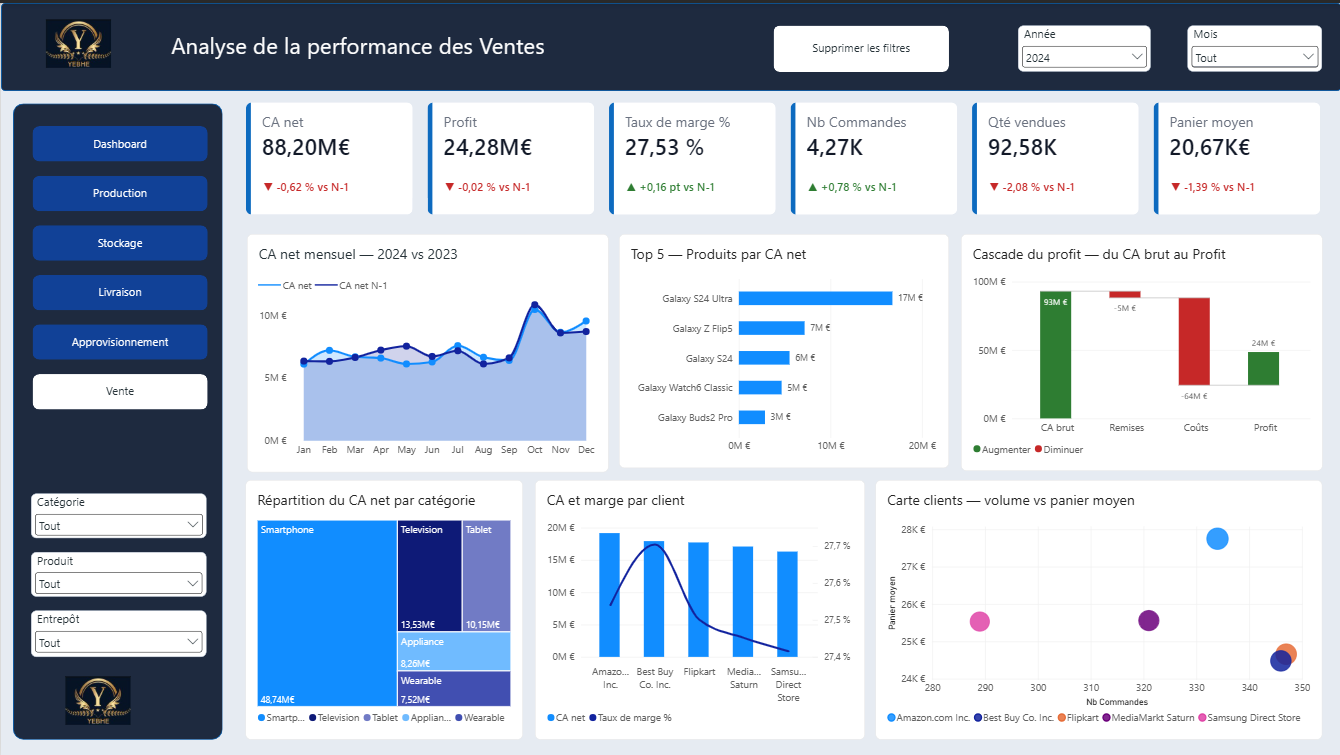

This screenshot's page, from the dashboard's own definition file:
{"tool":"powerbi","page":{"name":"Vente","canvas":[1920,1080],"ordinal":5},"visuals":[{"type":"shape","box":[18,143.7,300.3,911.2],"z":0},{"type":"clusteredBarChart","title":"Top 5 — Produits par CA net","fields":{"Category":["dim_product.product_name"],"Y":["_Mesures.CA net"]},"box":[885.2,330.9,472.9,335.6],"z":1000},{"type":"cardVisual","fields":{"Data":["_Mesures.CA net","_Mesures.Profit","_Mesures.Taux de marge %","_Mesures.Nb Commandes","_Mesures.Qté vendues","_Mesures.Panier moyen"]},"box":[349.7,142.7,1544.2,162.3],"z":2000},{"type":"waterfallChart","title":"Cascade du profit — du CA brut au Profit","fields":{"Category":["Etape cascade.Etape"],"Y":["_Mesures.Valeur cascade"]},"box":[1375.1,330.9,517.8,339.5],"z":3000},{"type":"shape","box":[0,0,1920,126],"z":4000},{"type":"treemap","title":"Répartition du CA net par catégorie","fields":{"Group":["dim_product.category"],"Values":["_Mesures.CA net"]},"box":[350.2,683.3,397.5,371.7],"z":5000},{"type":"slicer","fields":{"Values":["dim_date.year Hierarchy.month_name"]},"box":[1700.6,31.7,192.7,65.9],"z":6000},{"type":"scatterChart","title":"Carte clients — volume vs panier moyen","fields":{"Category":["dim_customer.customer_name"],"Series":["dim_customer.customer_name"],"Size":["_Mesures.CA net"],"X":["_Mesures.Nb Commandes"],"Y":["_Mesures.Panier moyen"]},"box":[1252.6,683.3,640.3,371.7],"z":7000},{"type":"slicer","fields":{"Values":["dim_date.year Hierarchy.year"]},"box":[1456.5,31.7,190.3,65.9],"z":8000},{"type":"lineClusteredColumnComboChart","title":"CA et marge par client","fields":{"Category":["dim_customer.customer_name"],"Y":["_Mesures.CA net"],"Y2":["_Mesures.Taux de marge %"]},"box":[764.9,683.3,472.7,371.7],"z":9000},{"type":"textbox","box":[207.4,39,605.8,53.9],"z":10000},{"type":"image","box":[43.9,24.4,136,69.3],"z":11000},{"type":"image","box":[71.9,965.1,136,69.3],"z":12000},{"type":"slicer","fields":{"Values":["dim_product.category"]},"box":[42.7,703.2,251.5,64.2],"z":13000},{"type":"slicer","fields":{"Values":["dim_product.product_name"]},"box":[42.7,786.9,251,64.1],"z":14000},{"type":"slicer","fields":{"Values":["dim_facility.facility_name"]},"box":[42.7,870.5,251,66.8],"z":15000},{"type":"actionButton","box":[1106.5,32.2,251.4,66.6],"z":16000},{"type":"lineChart","title":"CA net mensuel — 2024 vs 2023","fields":{"Category":["dim_date.year Hierarchy.month_name"],"Y":["_Mesures.CA net","_Mesures.CA net LY"]},"box":[352.4,330.9,517.8,341.6],"z":18000},{"type":"pageNavigator","box":[45.1,176.2,251.4,406.1],"z":19000}]}

Visuals, with their boxes in screenshot pixels (x1, y1, x2, y2), scaled from the page's 1920x1080 canvas onto the 1340x755 screenshot:
shape: 13 100 222 737
"Top 5 — Produits par CA net" clusteredBarChart: 618 231 948 466
cardVisual - _Mesures.CA net x _Mesures.Profit: 244 100 1322 213
"Cascade du profit — du CA brut au Profit" waterfallChart: 960 231 1321 469
shape: 0 0 1339 88
"Répartition du CA net par catégorie" treemap: 244 478 522 738
slicer - dim_date.year Hierarchy.month_name: 1187 22 1321 68
"Carte clients — volume vs panier moyen" scatterChart: 874 478 1321 738
slicer - dim_date.year Hierarchy.year: 1017 22 1149 68
"CA et marge par client" lineClusteredColumnComboChart: 534 478 864 738
textbox: 145 27 568 65
image: 31 17 126 66
image: 50 675 145 723
slicer - dim_product.category: 30 492 205 536
slicer - dim_product.product_name: 30 550 205 595
slicer - dim_facility.facility_name: 30 609 205 655
actionButton: 772 23 948 69
"CA net mensuel — 2024 vs 2023" lineChart: 246 231 607 470
pageNavigator: 31 123 207 407
